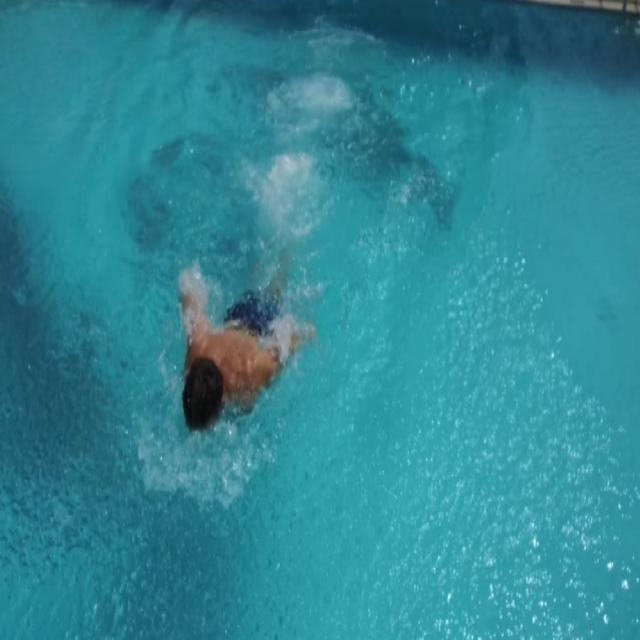Swimming: (179, 264, 315, 434)
